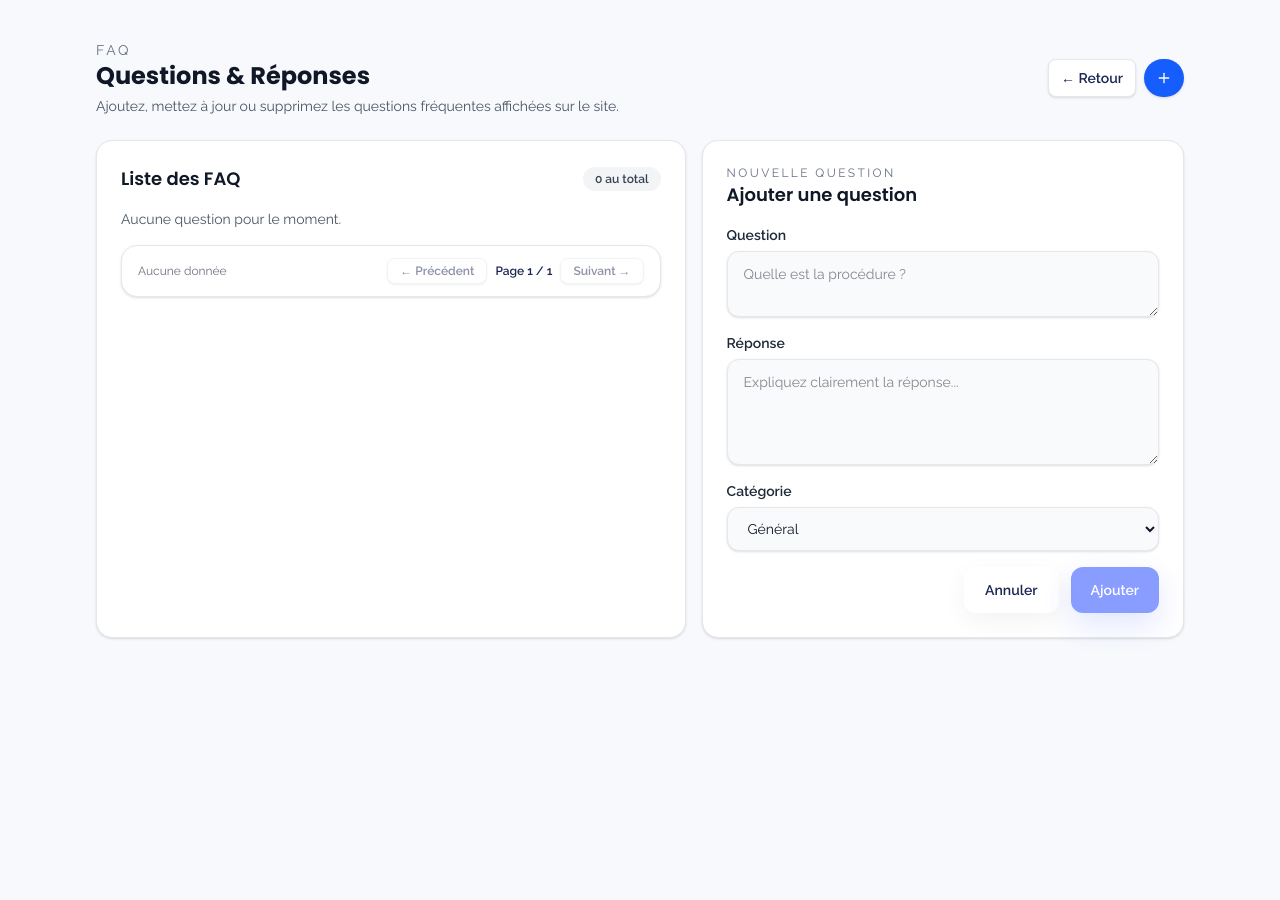
Scenario: Dashboard FAQ client › désactive le submit tant que le formulaire est invalide puis crée une FAQ
The width and height of the screenshot is (1280, 900).
Expected: the button "Ajouter" is disabled, [1070,567,1159,613]
Type "Comment faire un test ?" into the text box with placeholder "Quelle est la procédure ?" at (943, 284), box [727,251,1159,317]
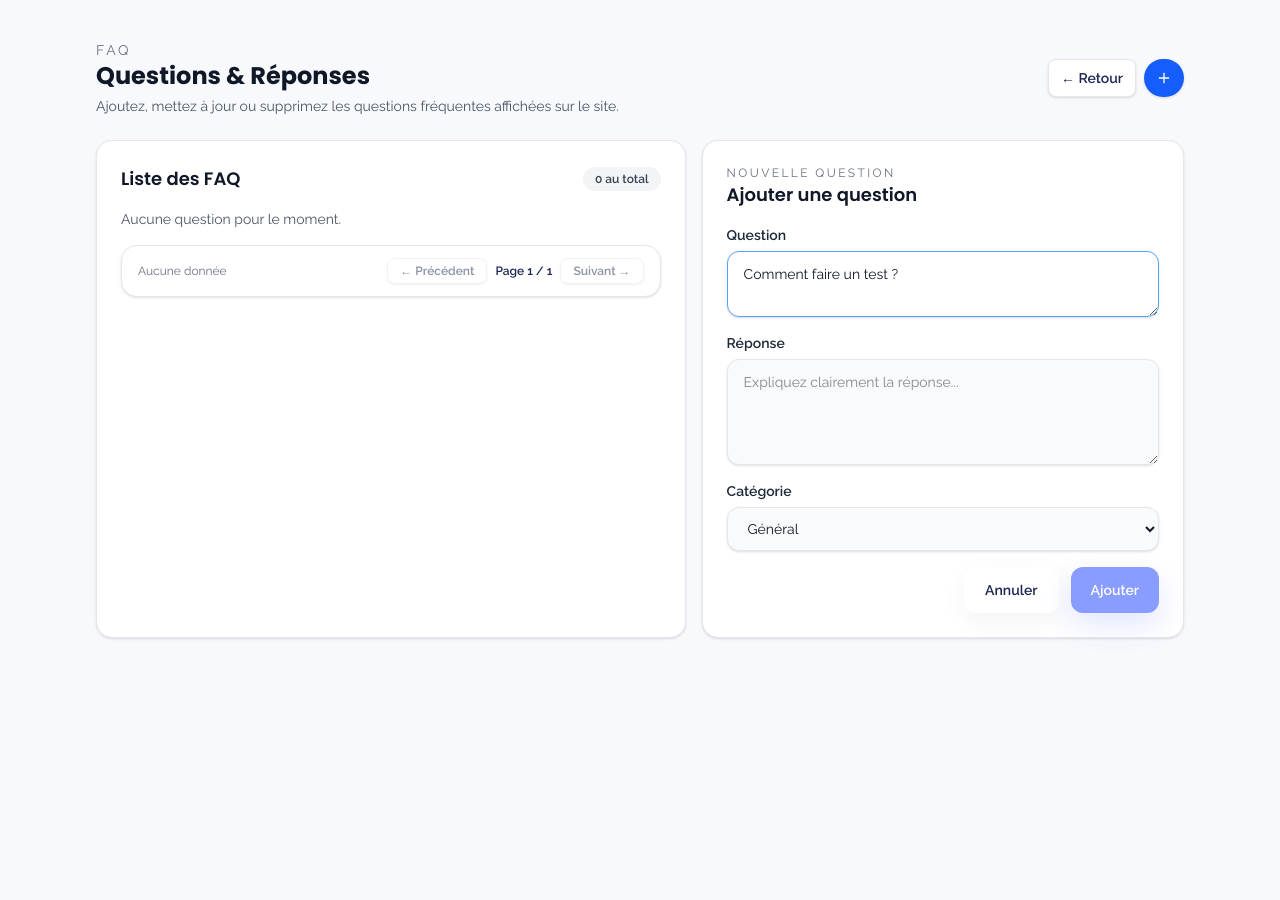
Type "En écrivant une réponse complète." into the text box with placeholder "Expliquez clairement la réponse..." at (943, 412), box [727,359,1159,465]
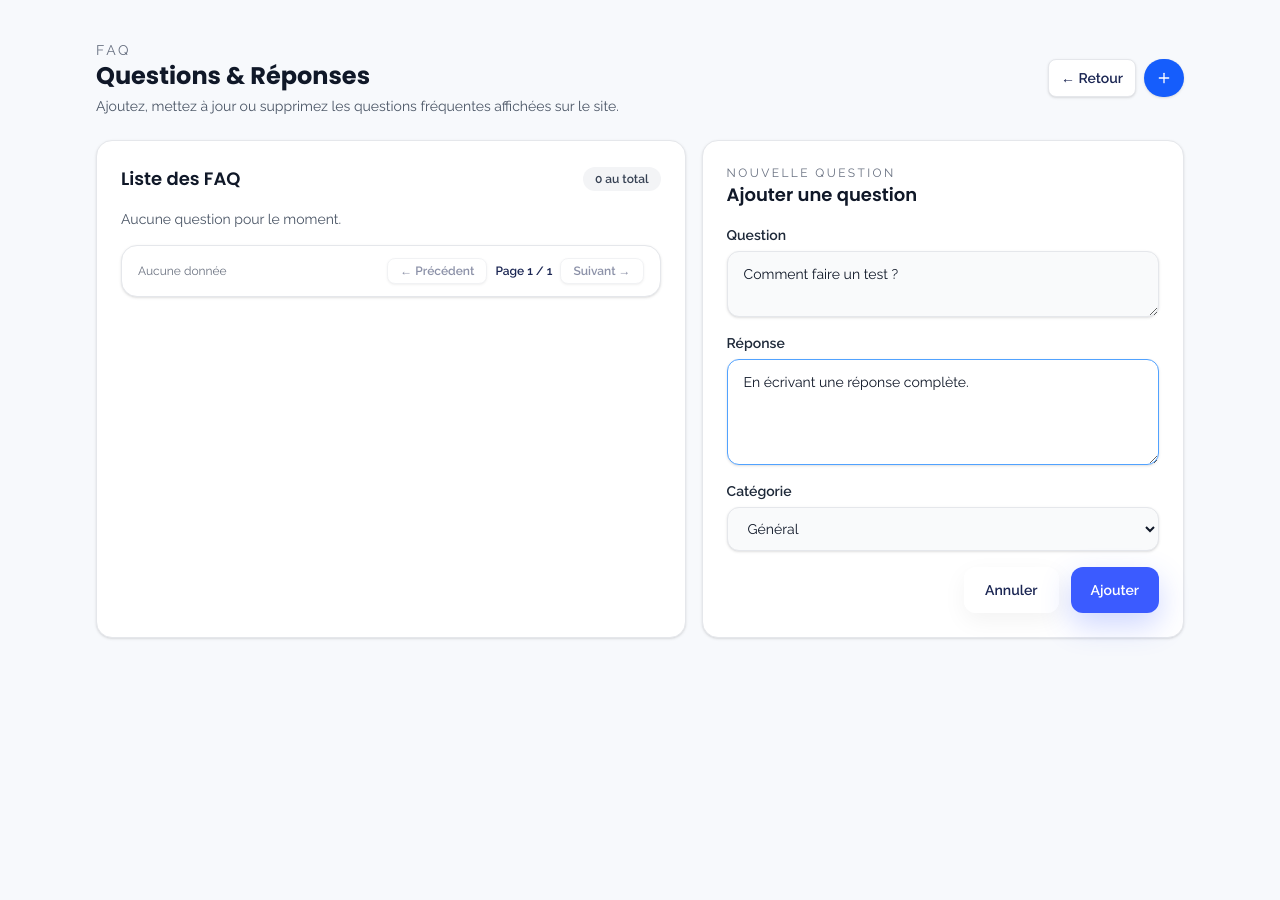
Now the button "Ajouter" is enabled
Click the button "Ajouter" at (1115, 590), box [1070,567,1159,613]
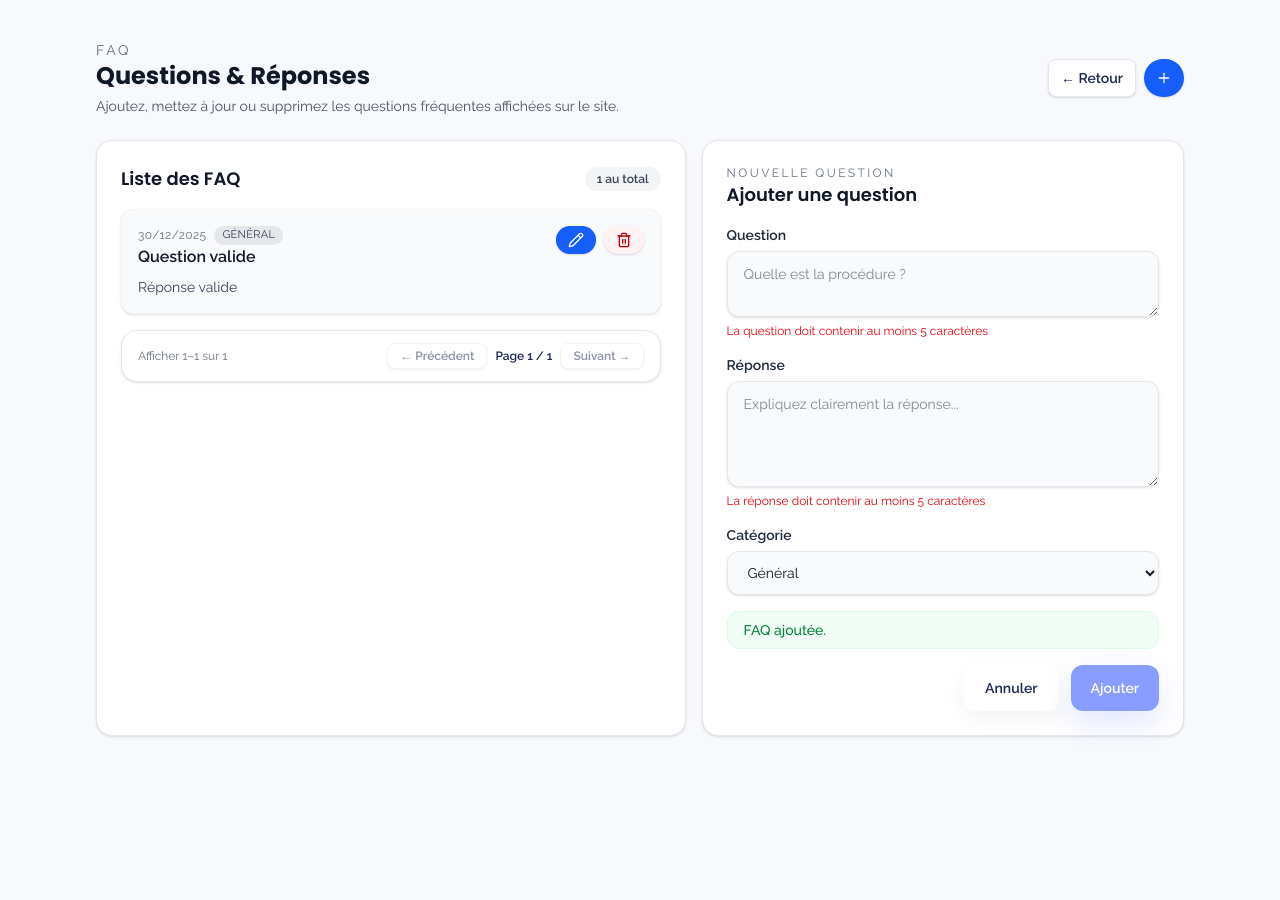
Now the text "FAQ ajoutée." is shown, box [727,611,1159,649]
